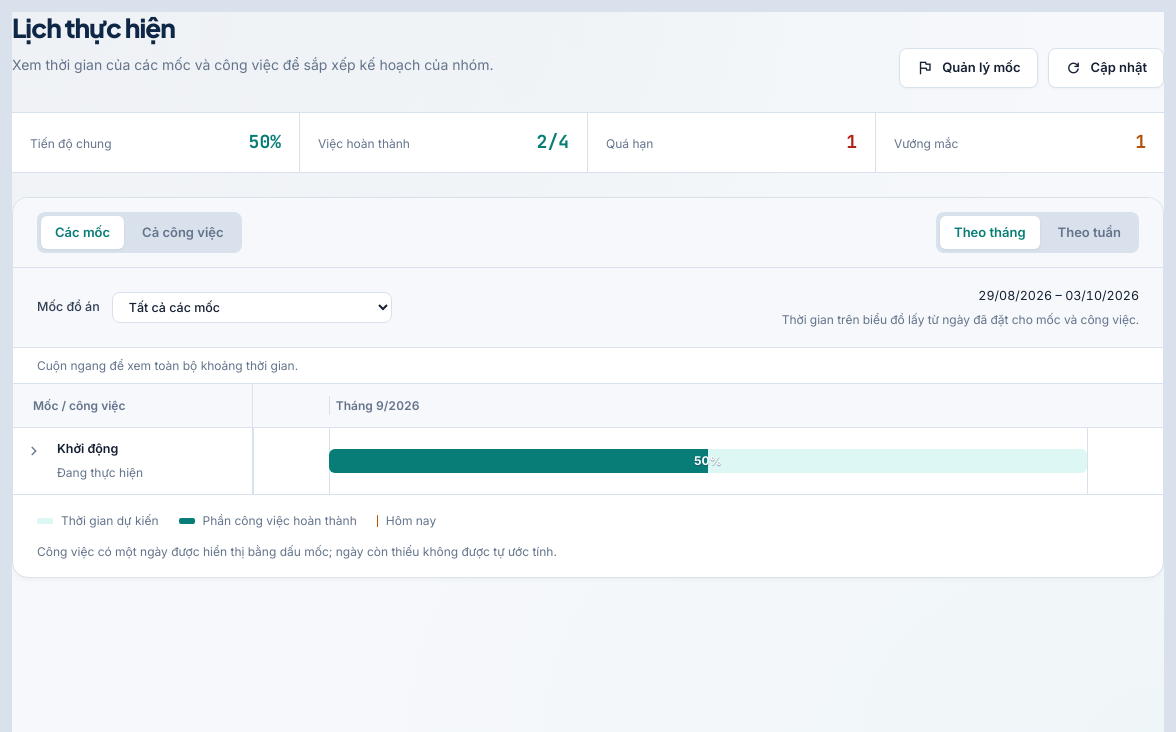
Test: GanttPage › shows milestones by default and actual tasks on demand
This screenshot has width=1176, height=732.
Check: the link "Khởi động" is shown, box [57,441,118,456]
Check: the text "Phân tích yêu cầu" is not shown
What coordinates should you click on to do the following:
click the button "Cả công việc"
I would click on:
 (183, 232)
Its box is [128,216,238,249].
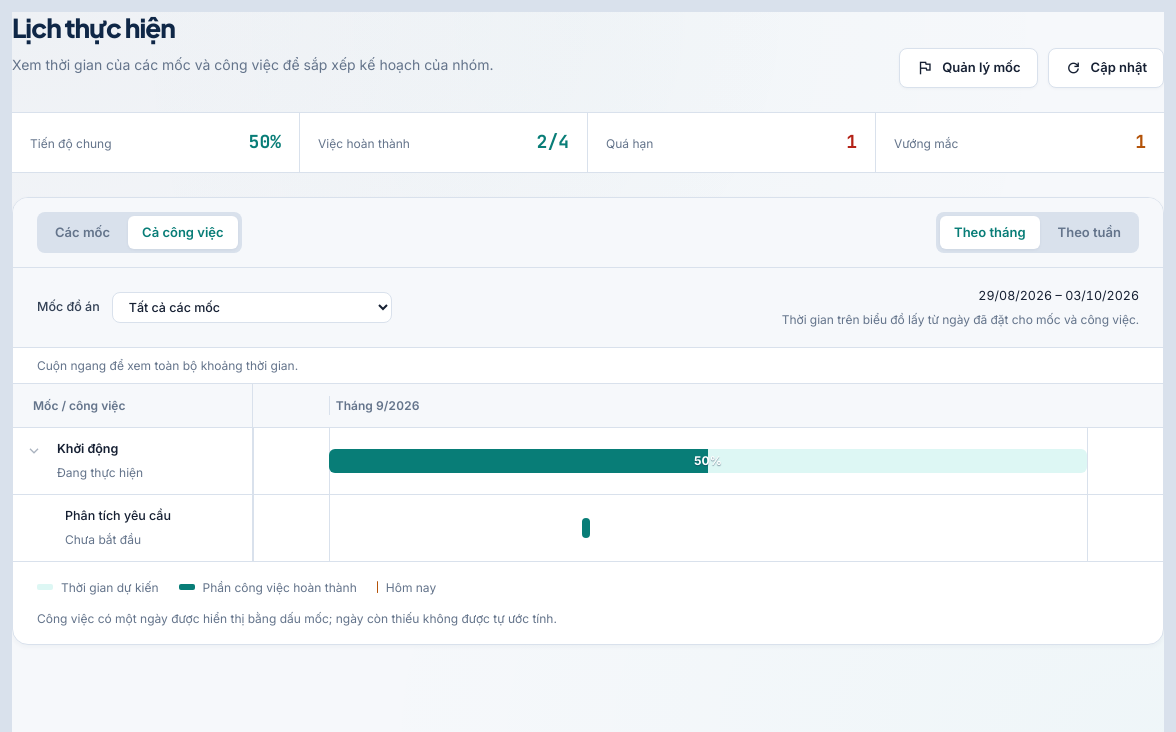
Check: the picture "50%" is shown, box [329,449,1087,473]
Check: the picture named "Phân tích yêu cầu: Hạn: 11/09/2026" is shown, box [582,518,590,538]
